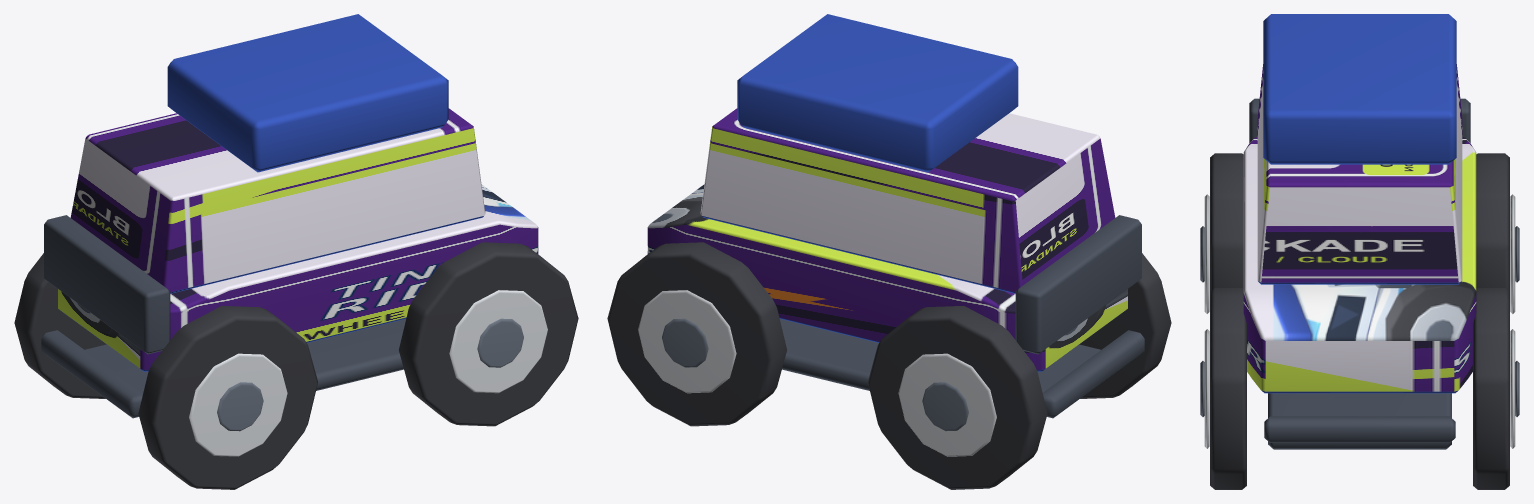
The picture shows the model from 3 angles, left to right: view 1: azimuth 30°, elevation 25°; view 2: azimuth 150°, elevation 25°; view 3: azimuth 270°, elevation 25°; orthographic projection. The views are drawn at different scales.
Parts seen in each view (by area): view 1: BW-02_cabin, armored roof canopy, BW-02_connected_shell, Tire.002, Tire, armored face guard, Rim, Rim.002, underbody, Tire.001, front bumper, Hub.002 (+1 smaller); view 2: BW-02_cabin, armored roof canopy, BW-02_connected_shell, Tire.003, Tire.001, armored face guard, Rim.001, Rim.003, underbody, Tire, front bumper, Hub.003 (+1 smaller); view 3: armored roof canopy, BW-02_connected_shell, BW-02_cabin, Tire.002, Tire.003, underbody, rear bumper, Tire, Tire.001, armored face guard, Rim.002, Rim.003 (+2 smaller).
Boxes of the visible parts, x1,y1,x2,y2 form: BW-02_cabin: (70,108,485,293); armored roof canopy: (167,14,448,172); BW-02_connected_shell: (58,184,538,371); Tire.002: (399,242,578,426); Tire: (138,306,317,489); armored face guard: (44,215,170,354); Rim: (189,353,287,456); Rim.002: (449,290,547,393); underbody: (85,319,405,392); Tire.001: (14,253,106,398); front bumper: (41,330,143,418); Hub.002: (477,318,523,367); BW-02_cabin: (700,108,1115,293); armored roof canopy: (737,14,1018,172); BW-02_connected_shell: (647,184,1127,371); Tire.003: (607,242,786,426); Tire.001: (868,306,1047,489); armored face guard: (1015,215,1141,354); Rim.001: (898,353,996,456); Rim.003: (638,290,736,393); underbody: (780,319,1100,392); Tire: (1079,253,1171,398); front bumper: (1042,330,1144,418); Hub.003: (662,318,708,367); armored roof canopy: (1263,14,1456,164); BW-02_connected_shell: (1243,136,1476,393); BW-02_cabin: (1257,64,1462,284); Tire.002: (1210,288,1246,489); Tire.003: (1473,288,1509,489); underbody: (1268,393,1451,449); rear bumper: (1264,416,1455,442); Tire: (1210,153,1243,291); Tire.001: (1476,153,1509,291); armored face guard: (1249,98,1470,142); Rim.002: (1204,329,1209,448); Rim.003: (1510,329,1515,448).
Bounding box in the file's own units: 368 × 279 × 225.
